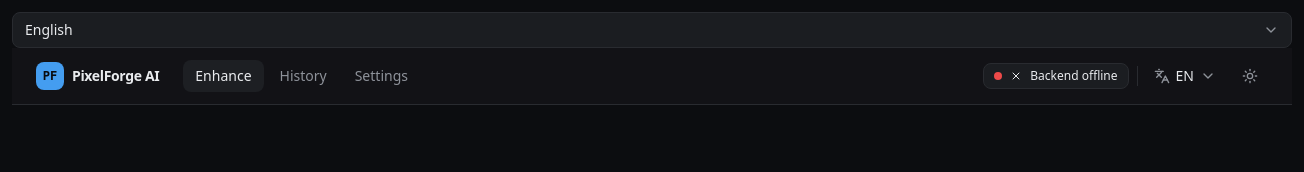
Scenario: LanguageSwitcher › switches the interface it is rendered in
Expected: the link "History" is shown, [280,66,327,85]
What coordinates should you click on to do the following:
click the dropdown named "Language"
I would click on:
 (49, 30)
Its box is [12,12,1292,48].
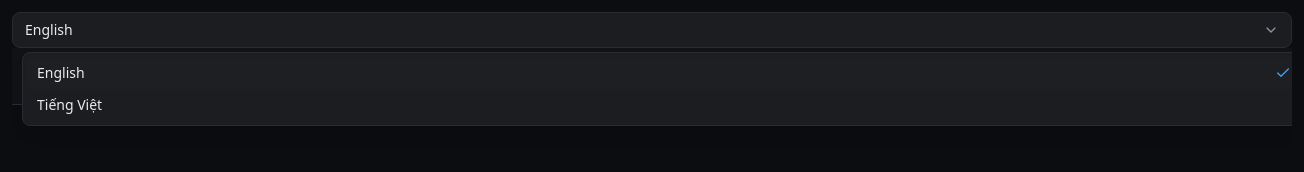
What coordinates should you click on to do the following:
click the option "Tiếng Việt"
I would click on:
 (70, 104)
Its box is [37,95,102,114].
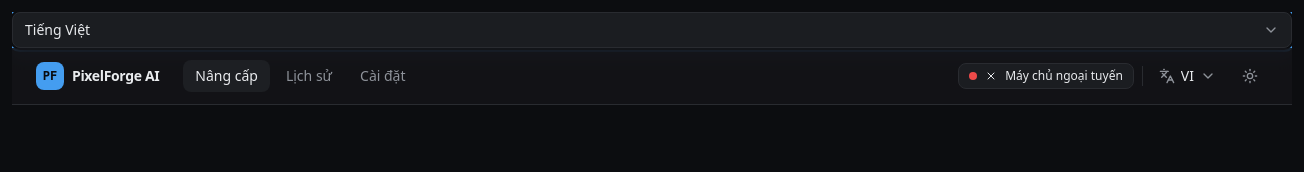
Now the link "Lịch sử" is shown, box [286,66,332,85]
Now the link "History" is gone
